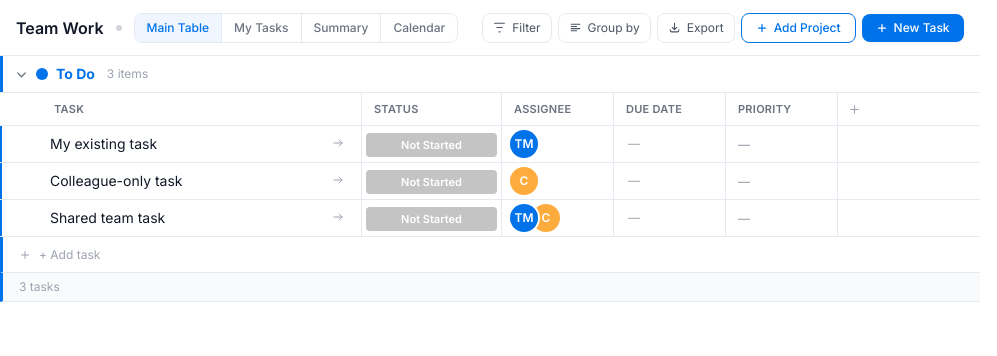
Test case: My Tasks creation through the board UI and store › keeps Main Table task creation unassigned
Expected: the button "Colleague-only task" is shown, [50,171,323,191]
Click the button "New Task". click: (913, 28)
box: [862,14,964,42]
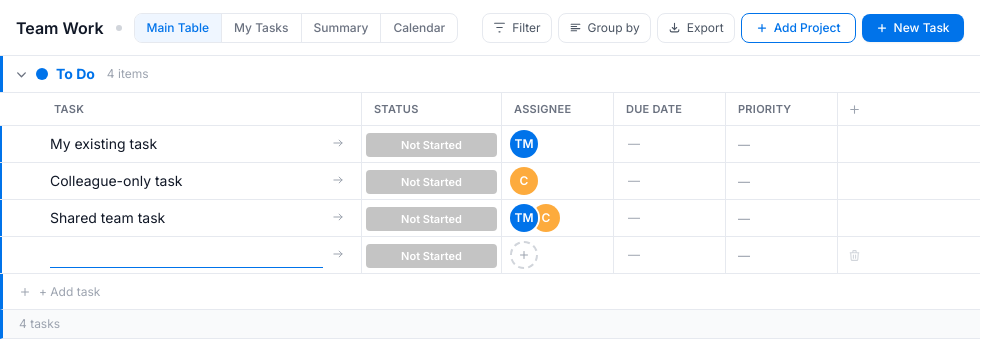
Result: the field is shown at [50,242,323,268]
